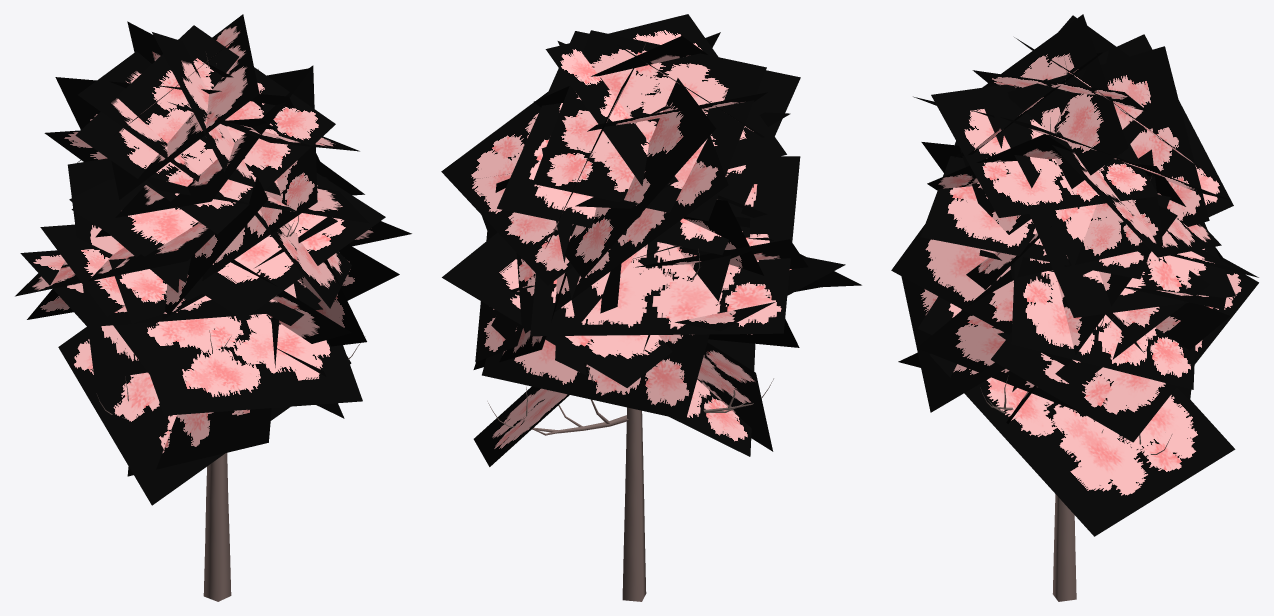
The model's file is Tree.fbx.
3 renders of one model, left to right at view 1: azimuth 30°, elevation 25°; view 2: azimuth 150°, elevation 25°; view 3: azimuth 270°, elevation 25°, orthographic. The views are drawn at different scales.
Parts seen in each view (by area): view 1: tree; view 2: tree; view 3: tree.
Part boxes in pixels (bbox=[...]): tree: bbox=[15, 14, 411, 601]; tree: bbox=[441, 14, 861, 601]; tree: bbox=[891, 14, 1258, 601].
Size of the model in its own units: 210 by 334 by 201.
